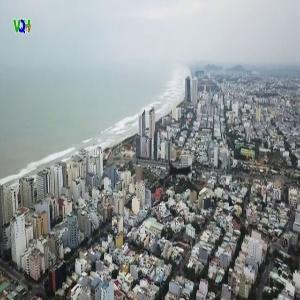drone: (141, 132, 225, 216)
